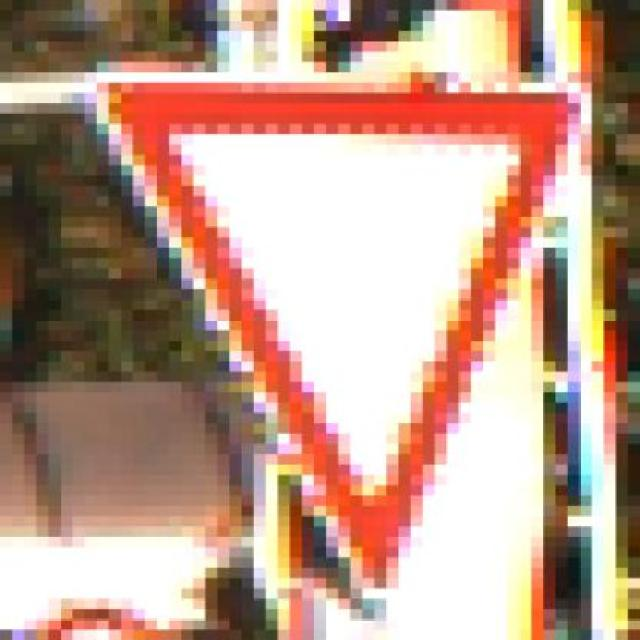Give Way: (57, 45, 625, 633)
